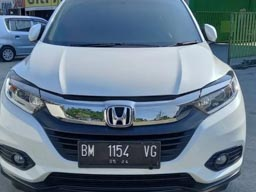plat: (77, 142, 159, 157)
